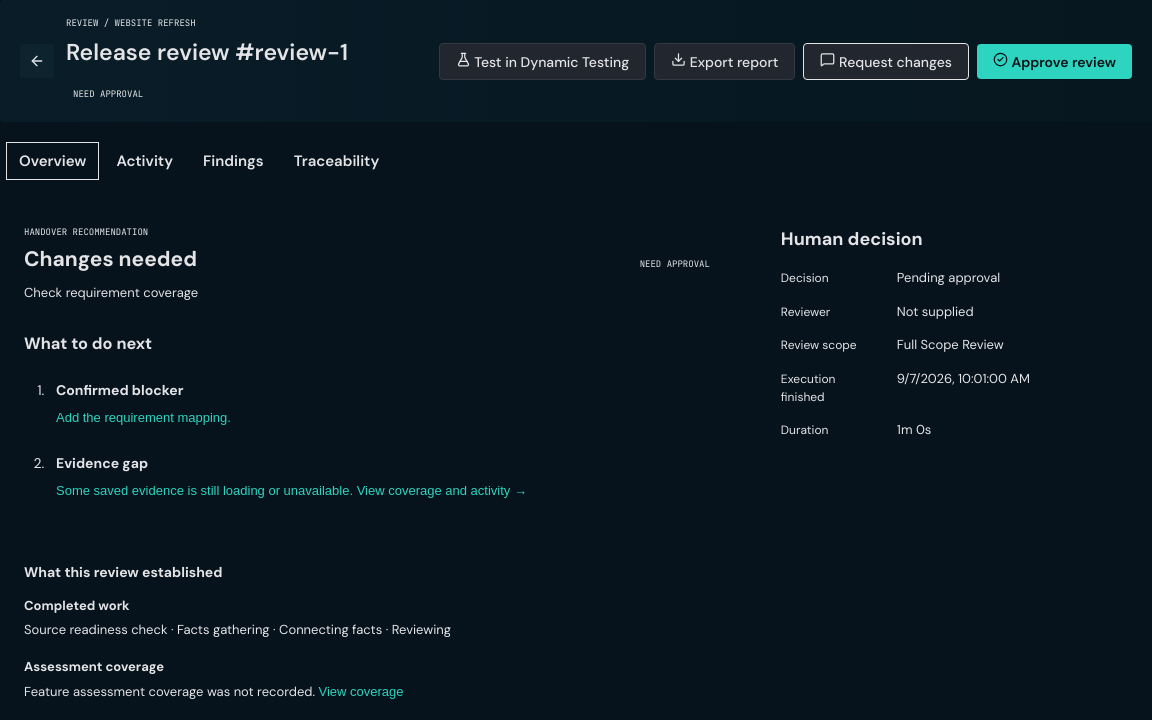
it: ReviewActivityScreen › requires a recorded reason before approving over an open high-severity blocker
Check: the heading "Changes needed" is shown, box x1=24 y1=244 x2=198 y2=275
Click the button "Approve review": (1054, 61) x1=977 y1=44 x2=1132 y2=78
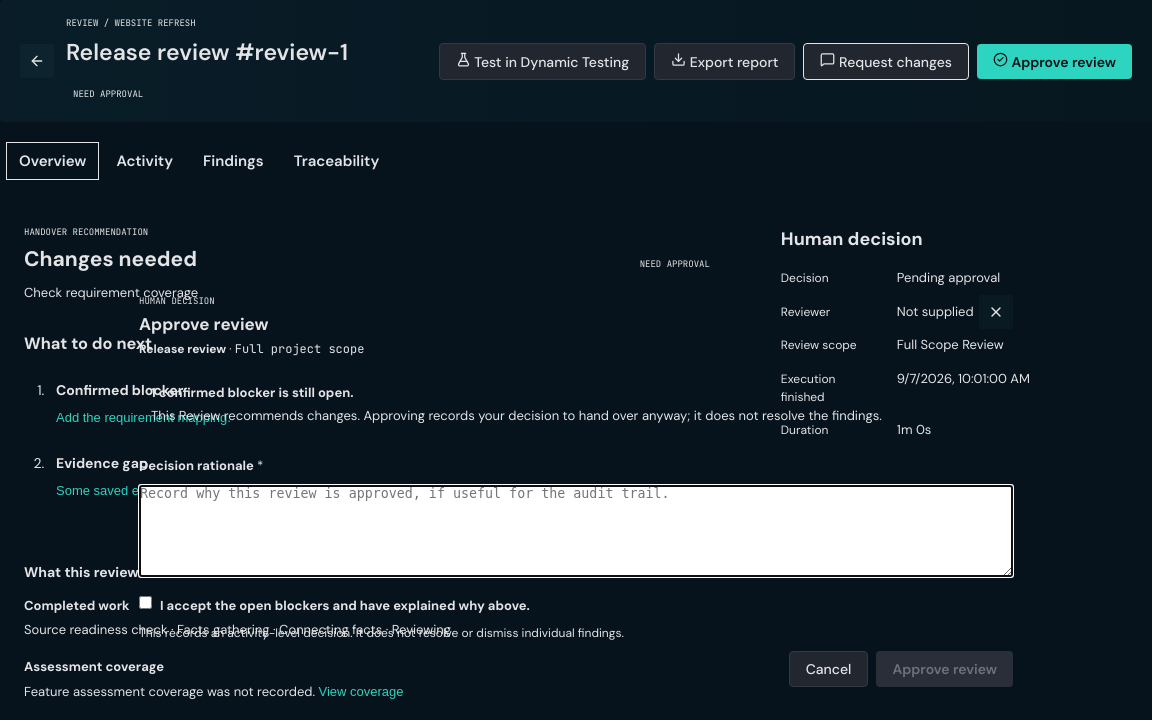
Check: the message shows "1 confirmed blocker is still open", box x1=151 y1=384 x2=882 y2=424
Check: the 2nd button "Approve review" is disabled, box x1=876 y1=651 x2=1013 y2=687
In the text box: (576, 531) x1=139 y1=485 x2=1013 y2=577, type "Accepted for the demo build; fix tracked separately."
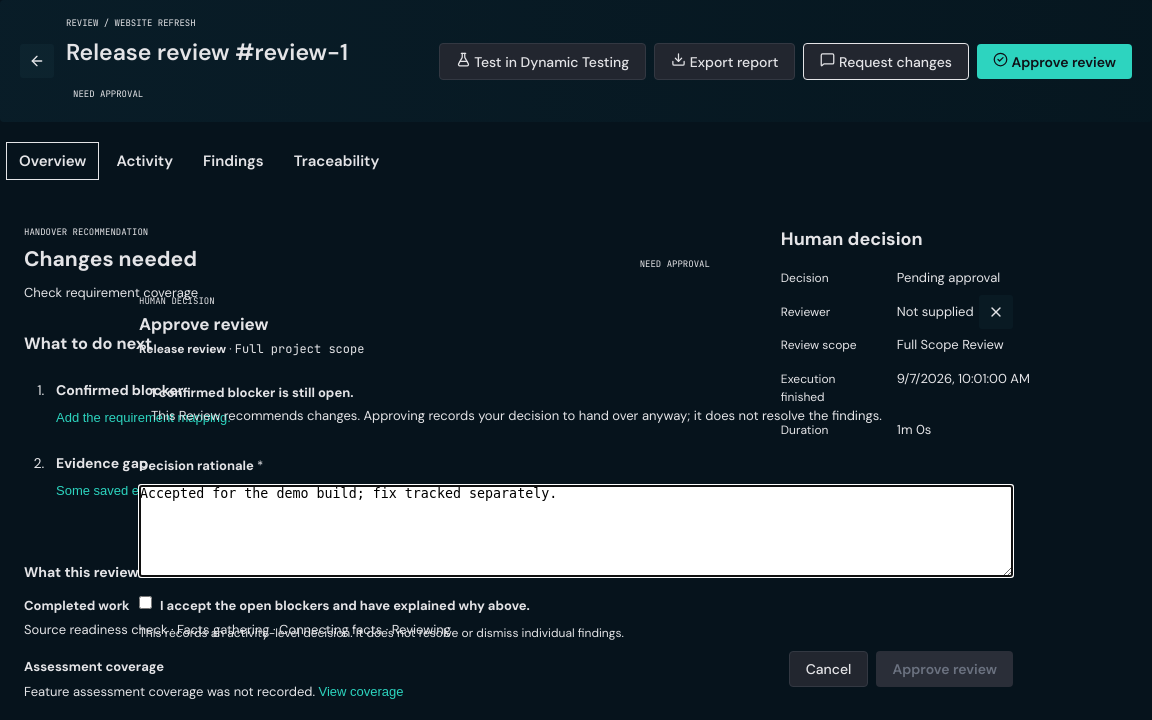
Check: the 2nd button "Approve review" is disabled, box x1=876 y1=651 x2=1013 y2=687
Click the checkbox labelled "I accept the open blockers and have explained why above.": (146, 602) x1=139 y1=596 x2=152 y2=609
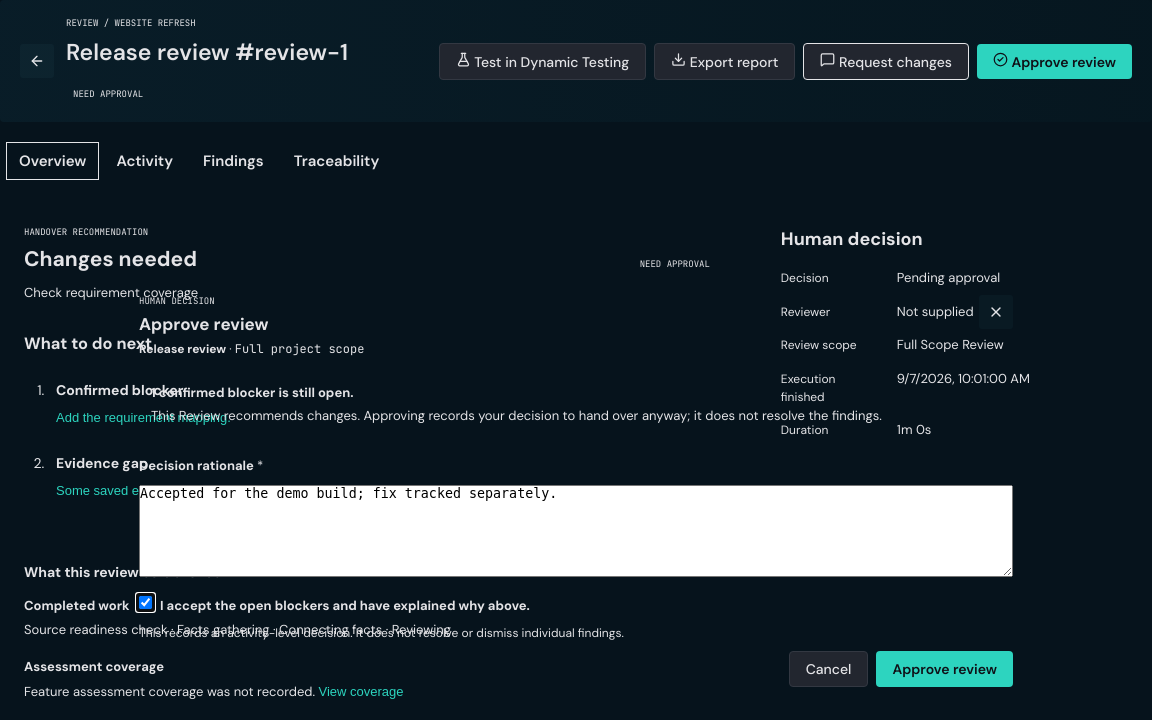
Check: the 2nd button "Approve review" is enabled, box x1=876 y1=651 x2=1013 y2=687
